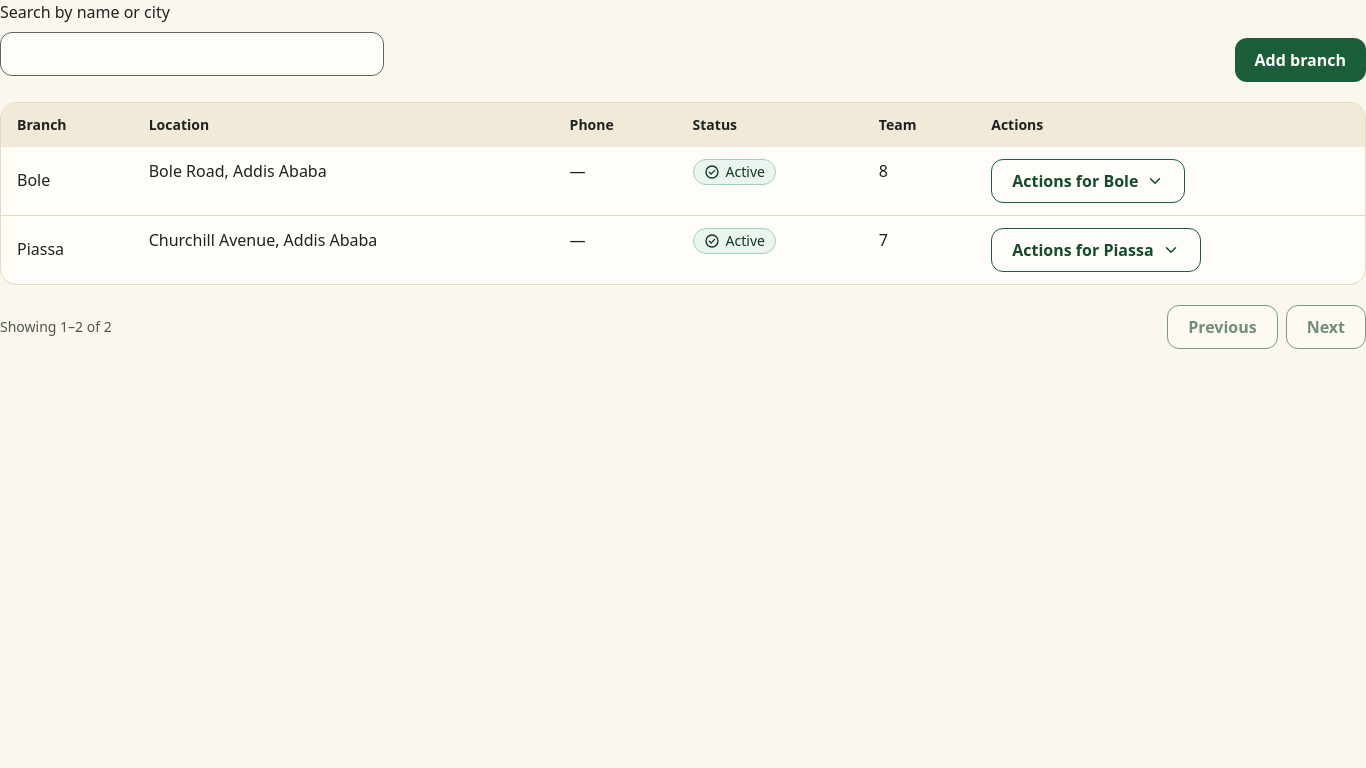
as an owner › refuses an invalid phone number before sending anything
This screenshot has width=1366, height=768.
Click the button "Add branch". click: [1300, 60]
box: [1234,38,1365,82]
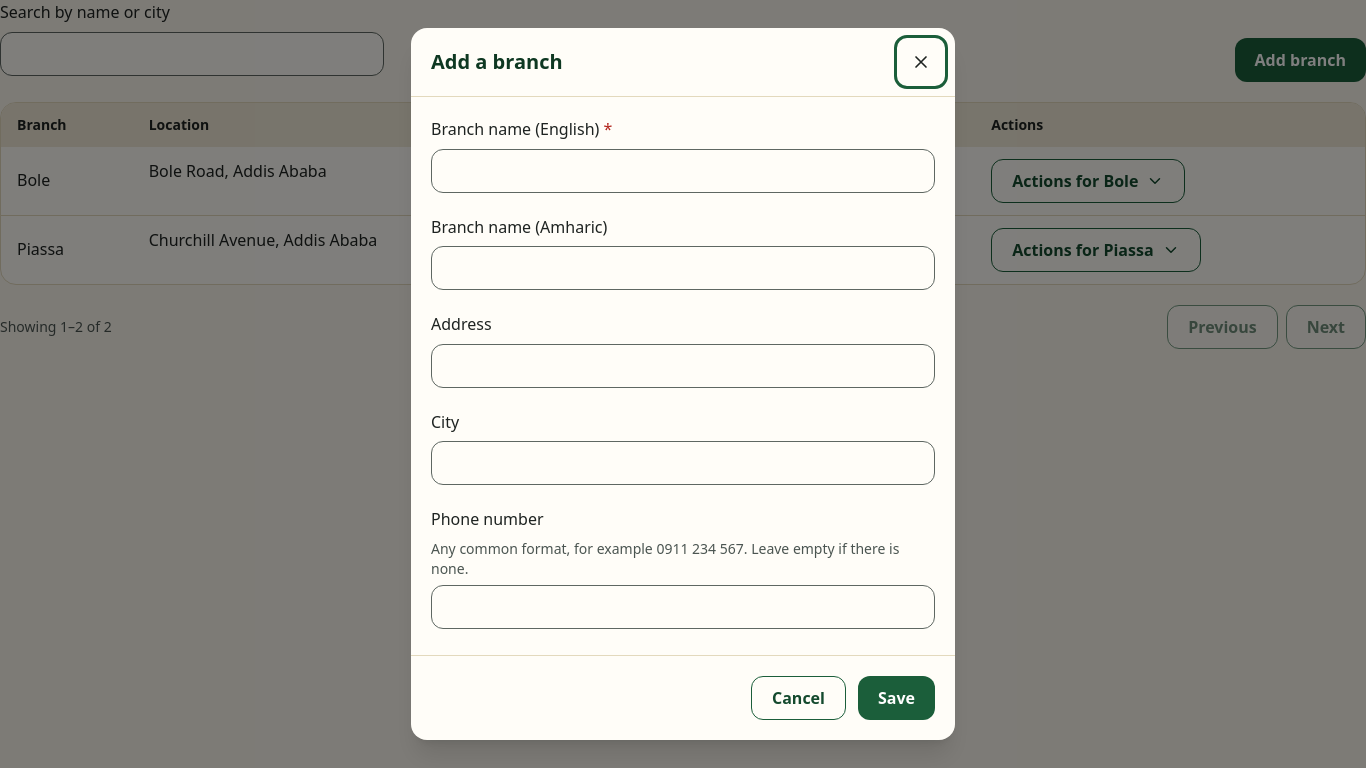
Type "X" into the field labelled "Branch name (English) *". click: [683, 171]
box: [431,149,935,193]
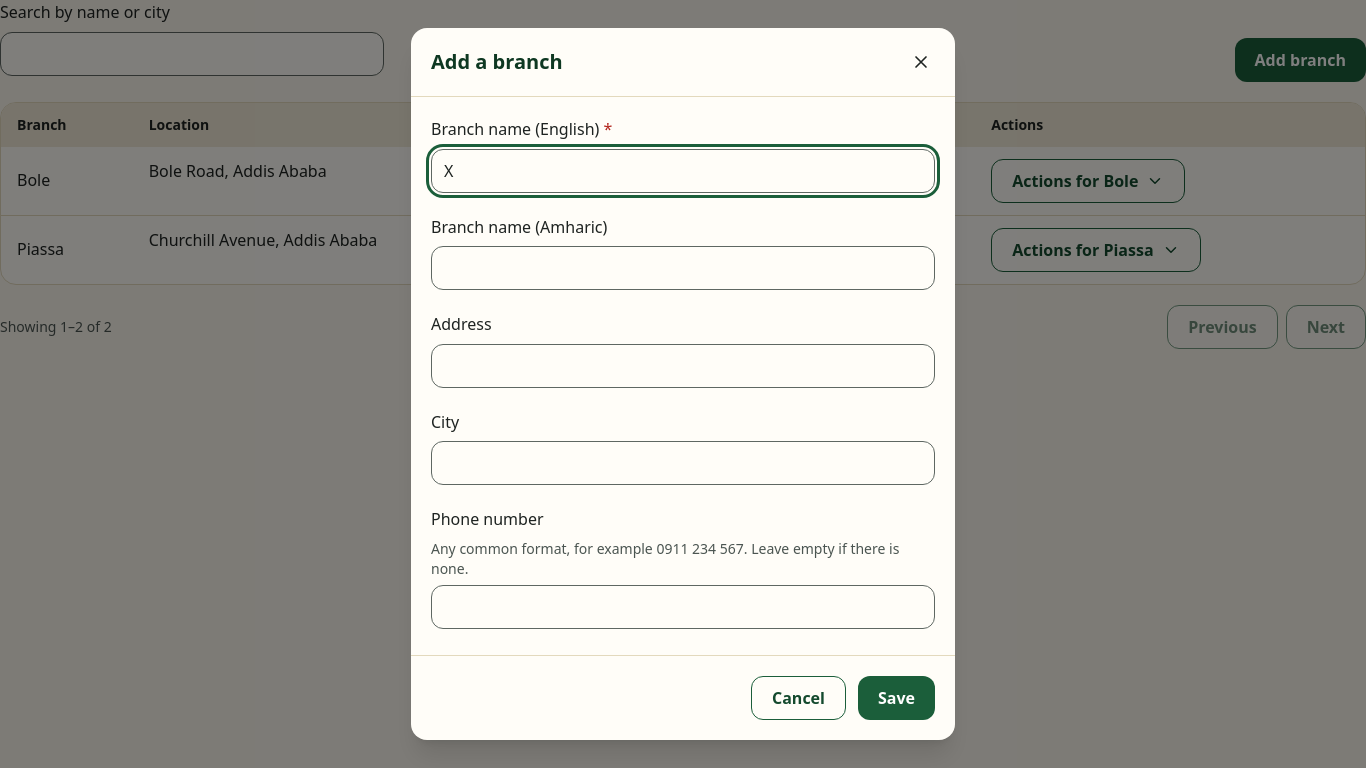
Type "12345" into the field labelled "Phone number". click: [683, 607]
box: [431,585,935,629]
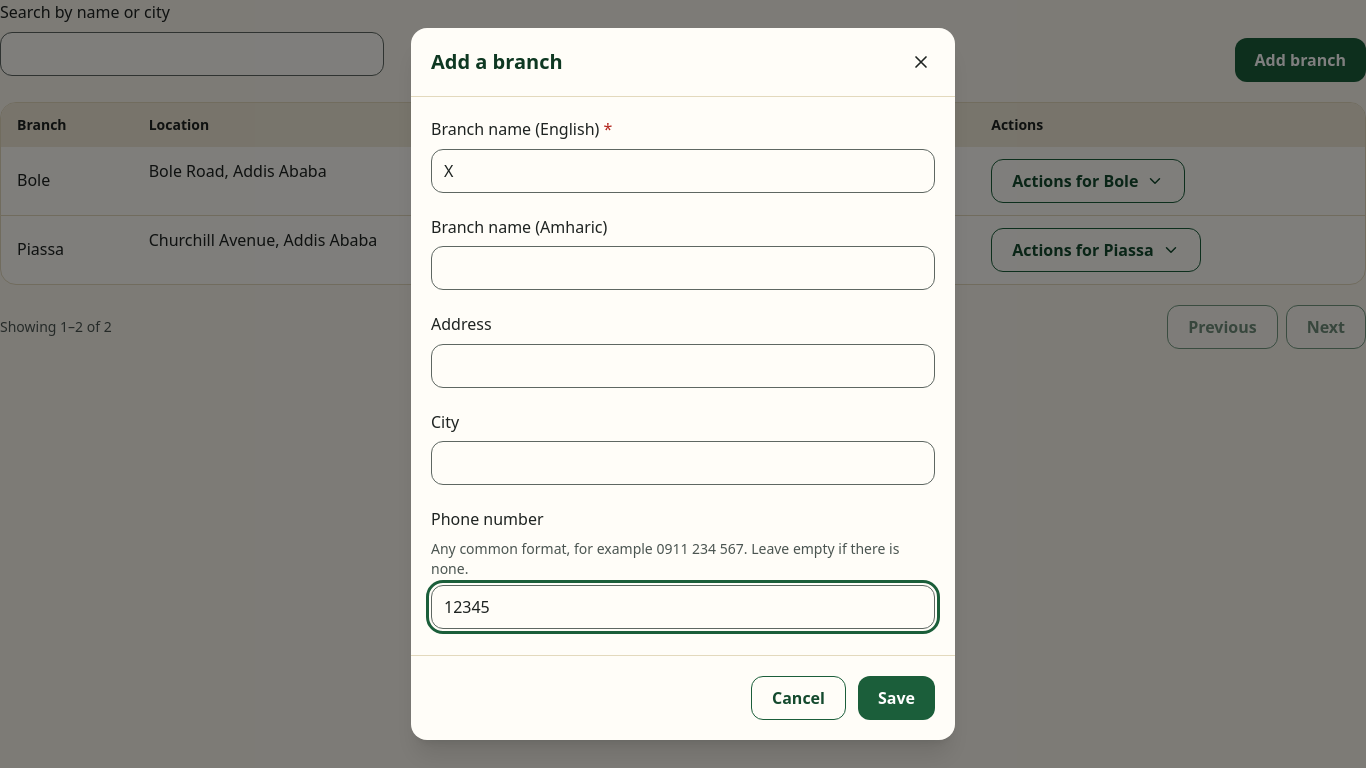
Click the button "Save". click: [896, 698]
box: [858,676,935,720]
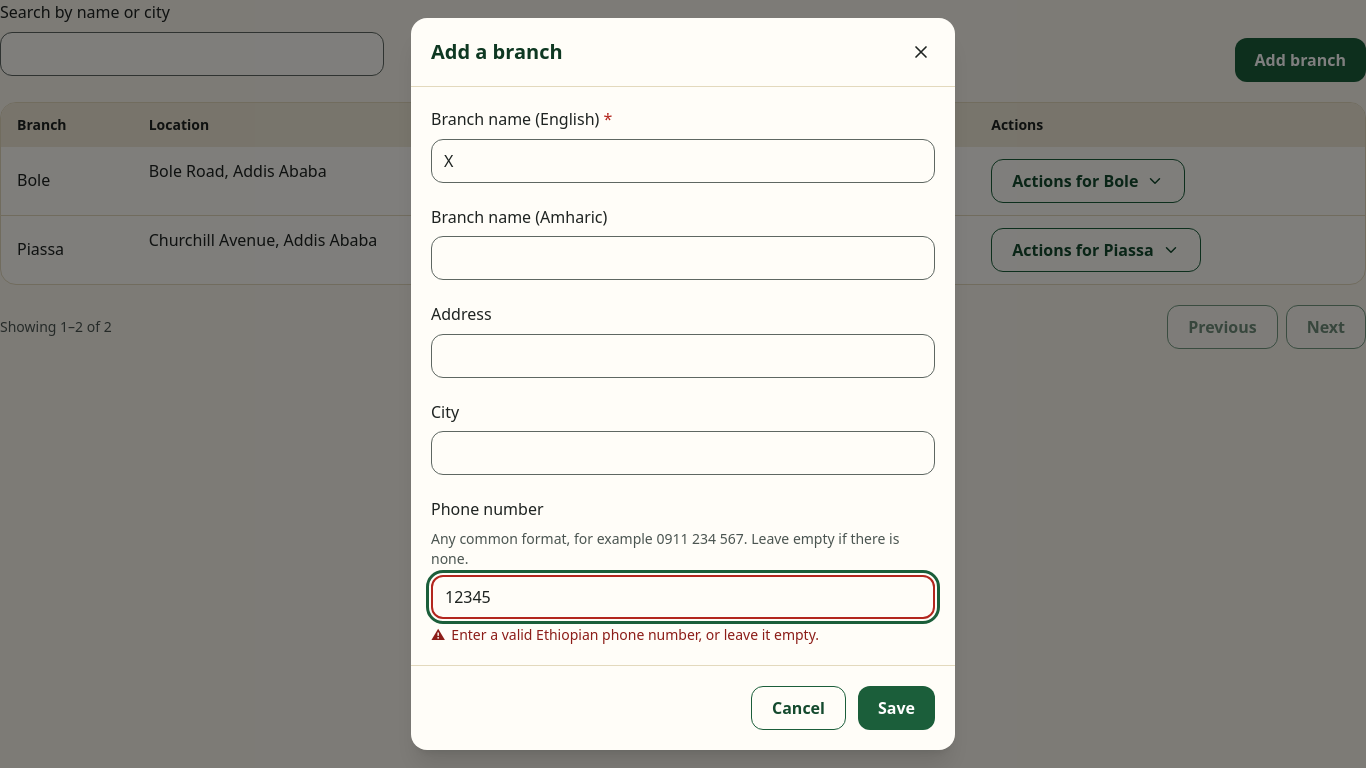
Now the text "Enter a valid Ethiopian phone number, or leave it empty." is shown, box [451,625,819,645]
